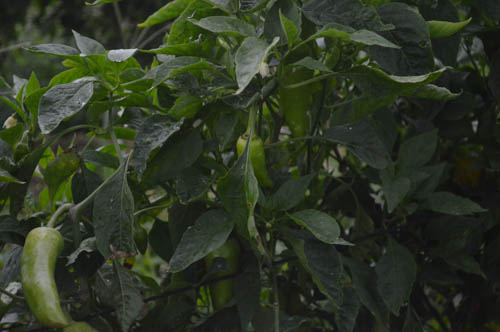ChiliPepper: (13, 226, 69, 329), (274, 61, 307, 146), (203, 240, 242, 310), (240, 133, 277, 196)
